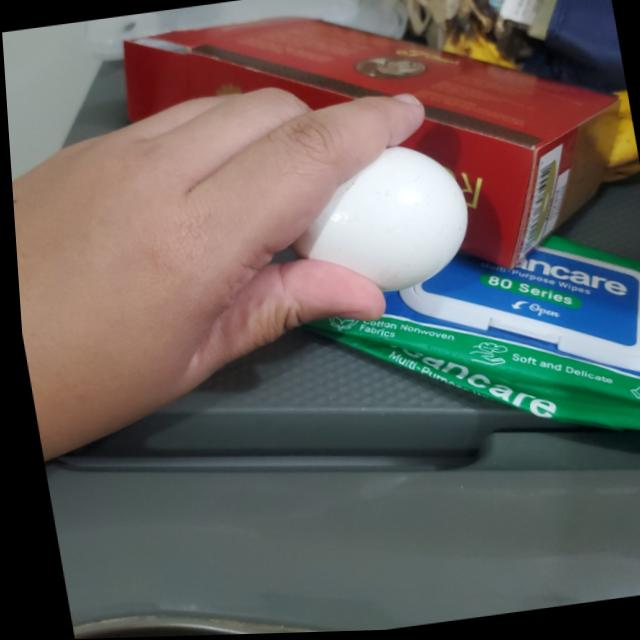egg: (266, 137, 477, 305)
